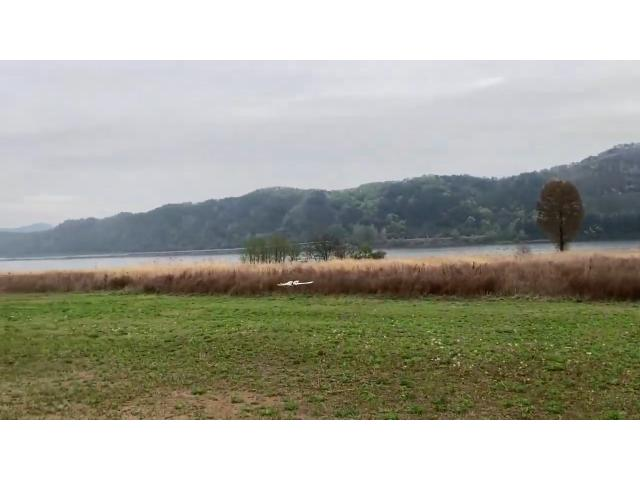Anti-Drone: (252, 274, 332, 294)
